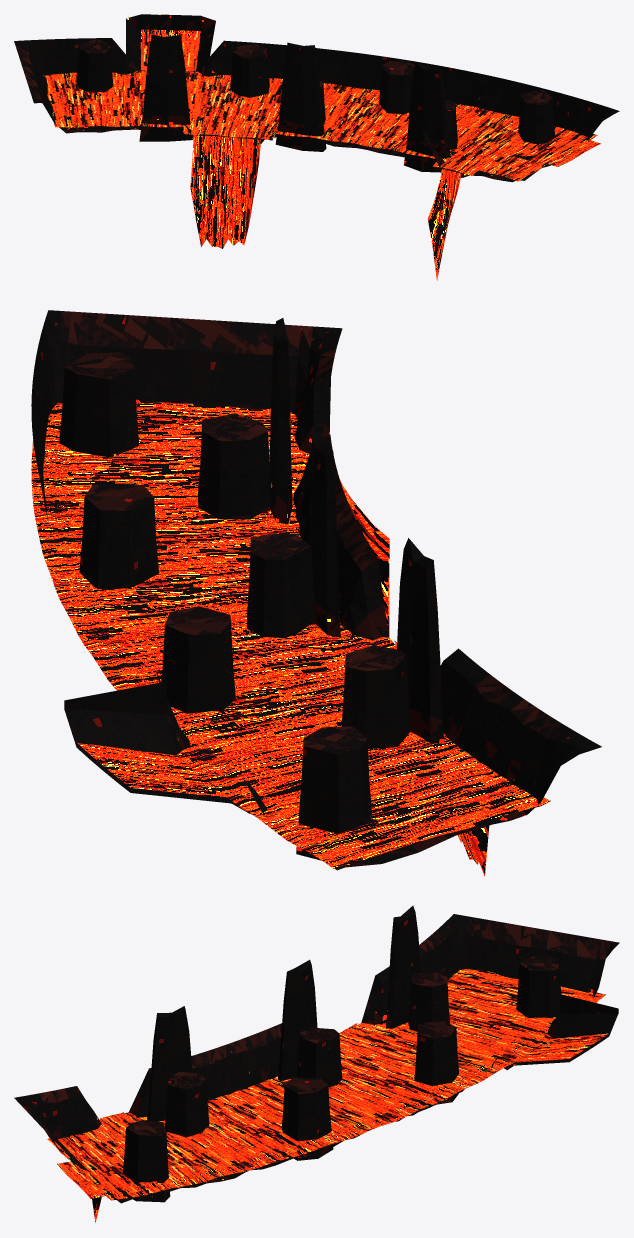
Rendered from lake_section.glb.
3 views of the same model, one above another, from view 1: azimuth 30°, elevation 25°; view 2: azimuth 150°, elevation 25°; view 3: azimuth 270°, elevation 25° (orthographic). The views are drawn at different scales.
Parts seen in each view (by area): view 1: LakeSection; view 2: LakeSection; view 3: LakeSection.
Part boxes in pixels (x1,y1,x2,y2): LakeSection: [14, 14, 619, 280]; LakeSection: [31, 310, 601, 876]; LakeSection: [14, 905, 619, 1222].
Size of what is drawn, in the model's own units: 35.52 by 14.88 by 35.75.
2 materials, 2 textured.
